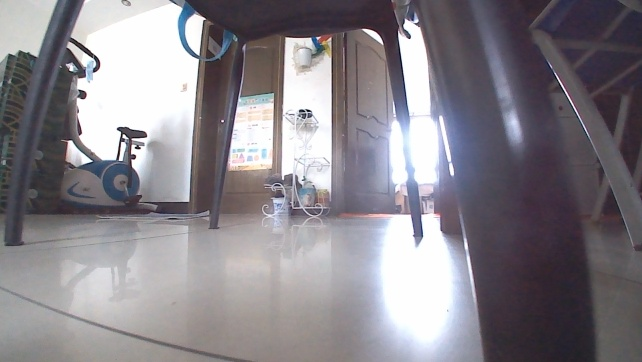blanket: (92, 207, 211, 223)
door_anno: (185, 14, 286, 215), (328, 21, 397, 218)
